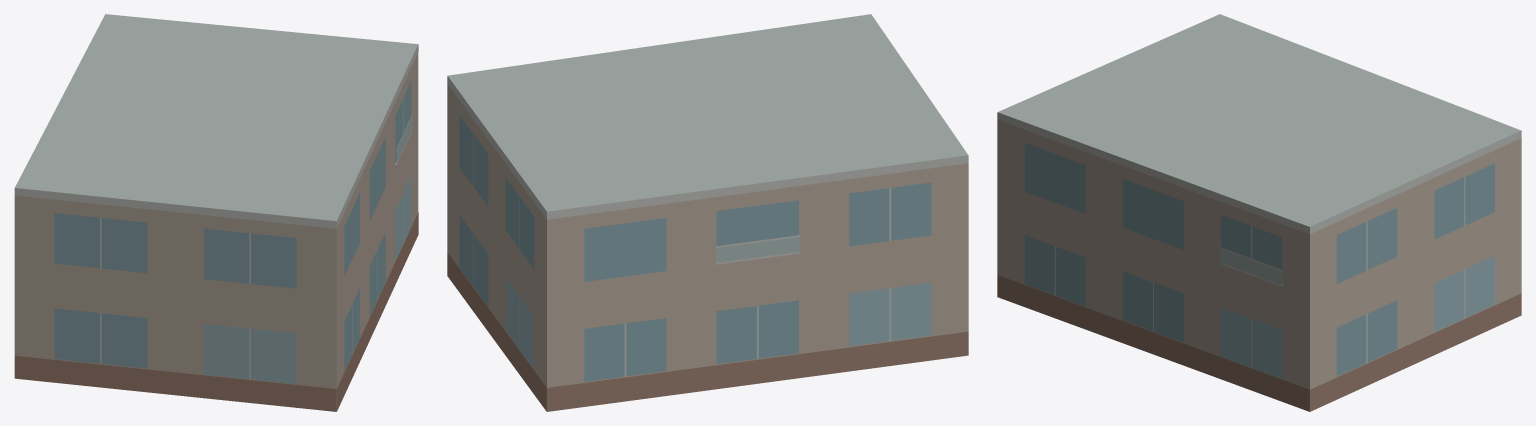
The model's file is survey-upis-32711883.glb.
3 views of the same model, side by side, from view 1: azimuth 30°, elevation 25°; view 2: azimuth 150°, elevation 25°; view 3: azimuth 270°, elevation 25° (orthographic). The views are drawn at different scales.
Visible parts, largest first — view 1: survey-upis-32711883.tmp; view 2: survey-upis-32711883.tmp; view 3: survey-upis-32711883.tmp.
Part boxes in pixels (<box>): survey-upis-32711883.tmp: <box>14,14,418,411</box>; survey-upis-32711883.tmp: <box>447,14,968,411</box>; survey-upis-32711883.tmp: <box>997,14,1521,411</box>.
Bounding box in the file's own units: 15.08 × 6.1 × 15.68.
